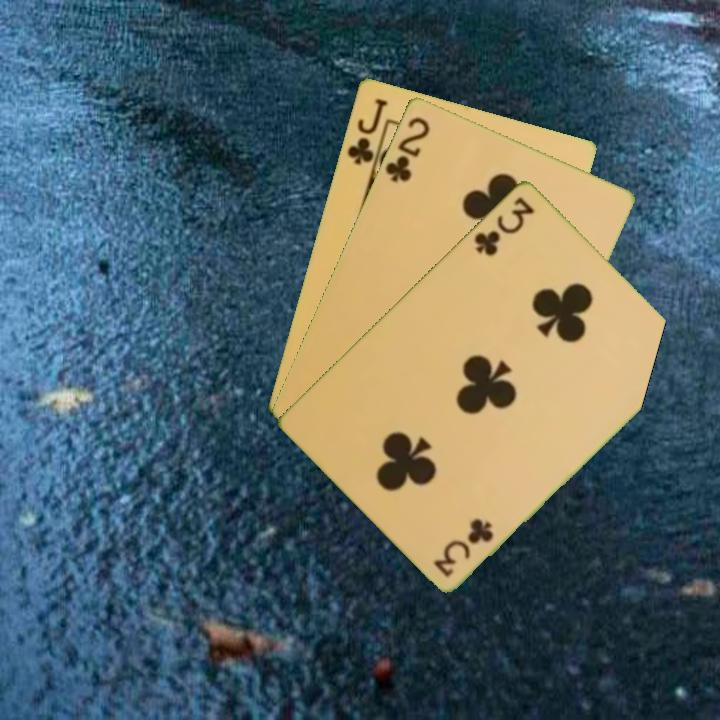2c: (381, 112, 433, 185)
3c: (470, 192, 538, 259), (430, 514, 497, 580)
Jc: (343, 94, 391, 167)
